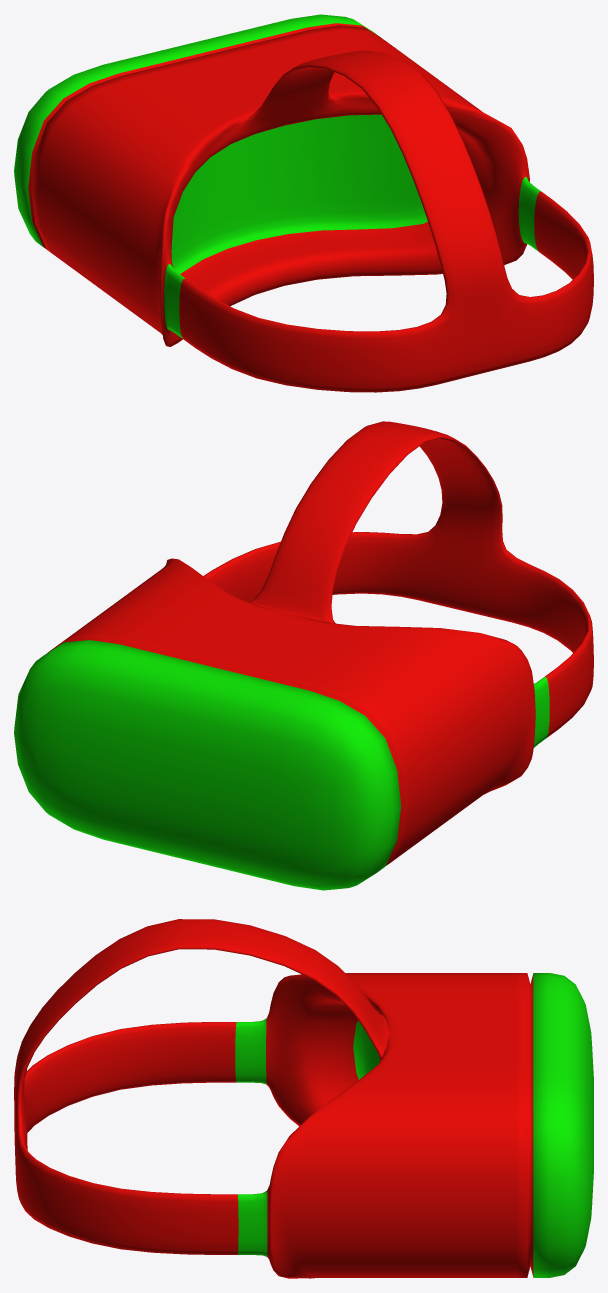
The model's file is headset.glb.
3 views of the same model, one above another, from view 1: azimuth 30°, elevation 25°; view 2: azimuth 150°, elevation 25°; view 3: azimuth 270°, elevation 25° (orthographic).
Visible parts, largest first — view 1: Plane; view 2: Plane; view 3: Plane.
Part boxes in pixels (x1,y1,x2,y2): Plane: (14,14,593,392); Plane: (14,421,593,890); Plane: (14,919,593,1278).
Size of the model in its own units: 0.1934 by 0.1441 by 0.2643.
